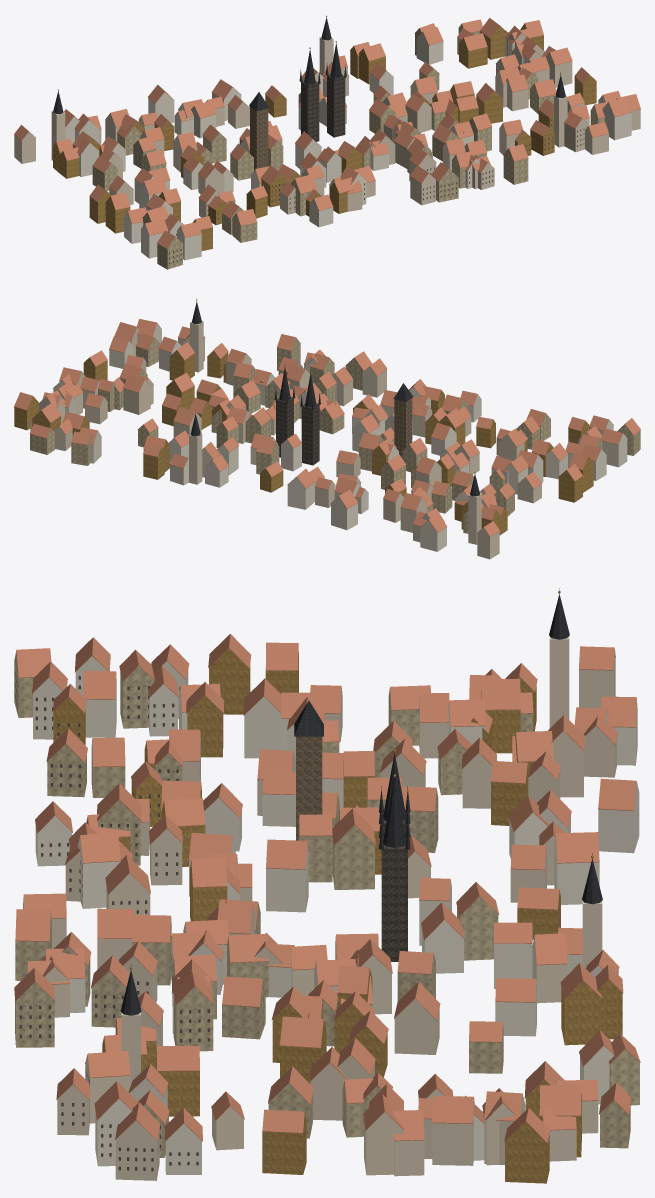
Rendered from city_backdrop.gltf.
The picture shows the model from 3 angles, top to bottom: view 1: azimuth 30°, elevation 25°; view 2: azimuth 150°, elevation 25°; view 3: azimuth 270°, elevation 25°; orthographic projection. The views are drawn at different scales.
Parts seen in each view (by area): view 1: city_backdrop_mesh; view 2: city_backdrop_mesh; view 3: city_backdrop_mesh.
Boxes of the visible parts, x1,y1,x2,y2 form: city_backdrop_mesh: (14, 15, 640, 269); city_backdrop_mesh: (14, 298, 640, 559); city_backdrop_mesh: (14, 588, 640, 1183).
Size of the model in its own units: 350 by 61.84 by 190.
11 materials, 7 textured.
